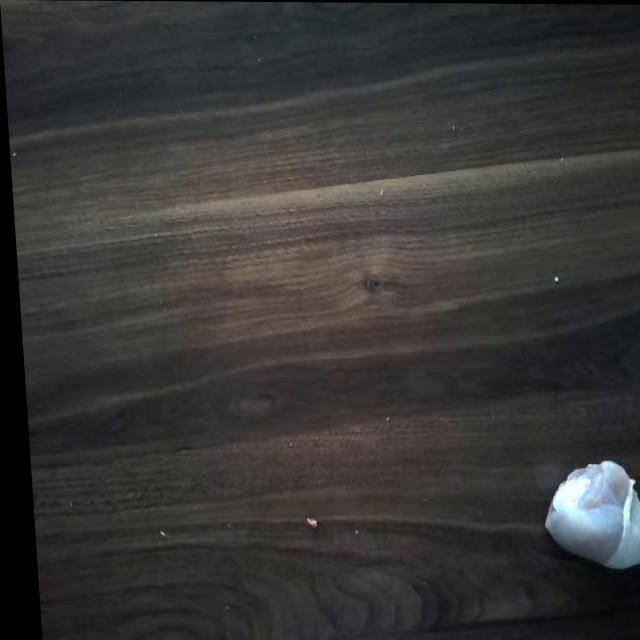leg: (514, 443, 640, 580)
